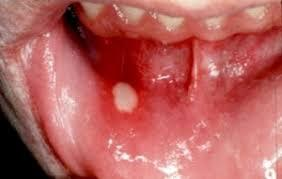Ulcer: (105, 78, 153, 122)
